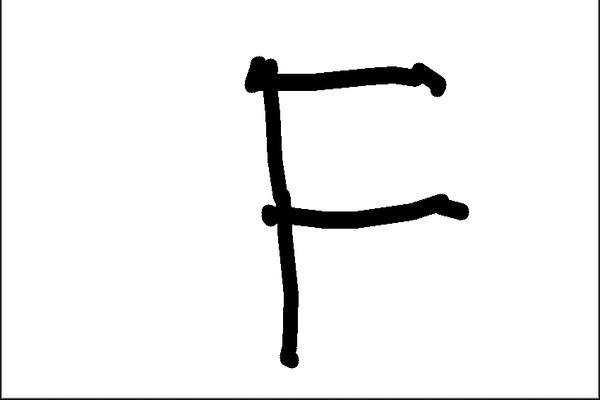F: (239, 52, 471, 372)
